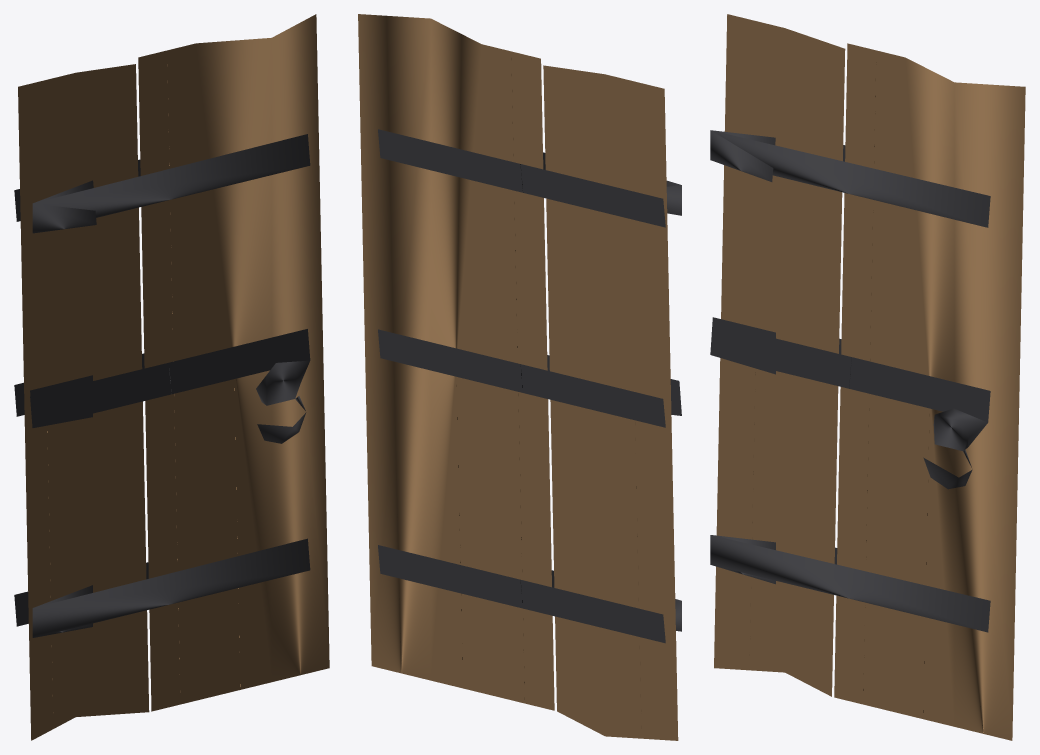
File: door_wood_lod1.glb
3 renders of one model, left to right at view 1: azimuth 30°, elevation 25°; view 2: azimuth 150°, elevation 25°; view 3: azimuth 330°, elevation 25°, orthographic. The views are drawn at different scales.
Size of the model in its own units: 1.05 by 2.15 by 0.145.
